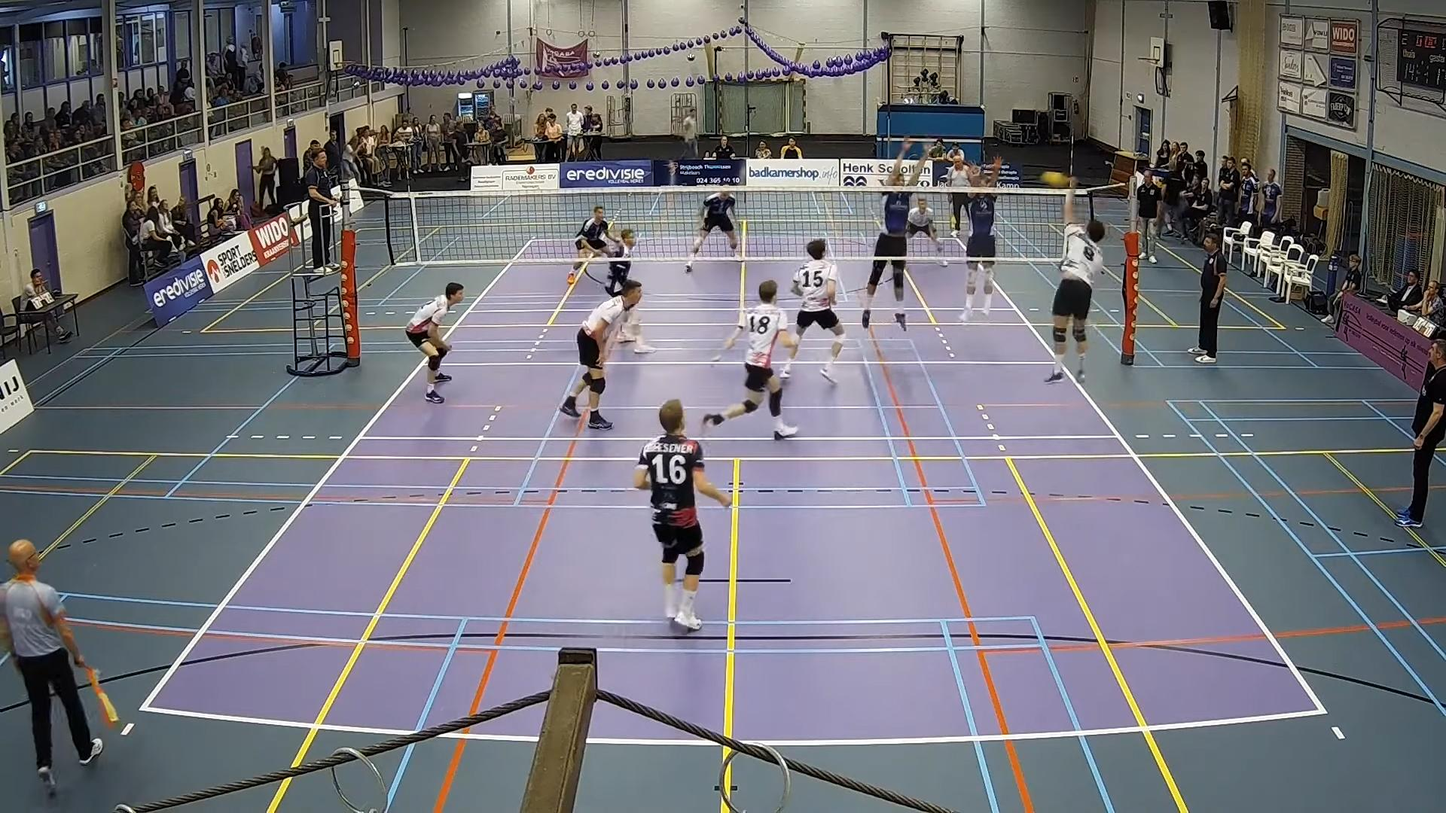attacco: (1046, 194, 1122, 389)
muro: (864, 135, 932, 336), (960, 149, 1003, 319)
